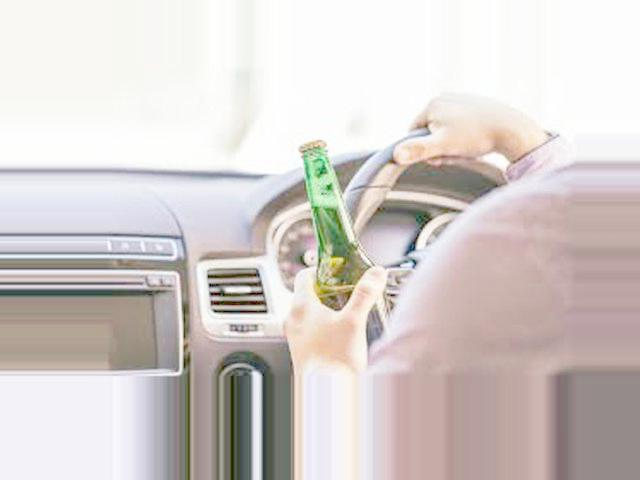beer: (297, 138, 389, 354)
